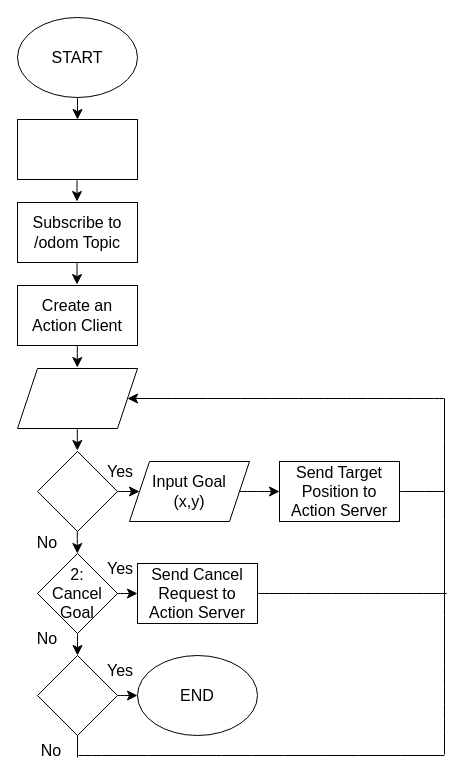
Image size: 465x783. Some labels were removed from this diagram. Each missing label, with the centre of its shape:
"1: Set Goal" goes at point (77, 491).
"3: Exit" goes at point (77, 695).
"Node Initialization" goes at point (77, 149).
"UI: Select Action" goes at point (77, 398).
